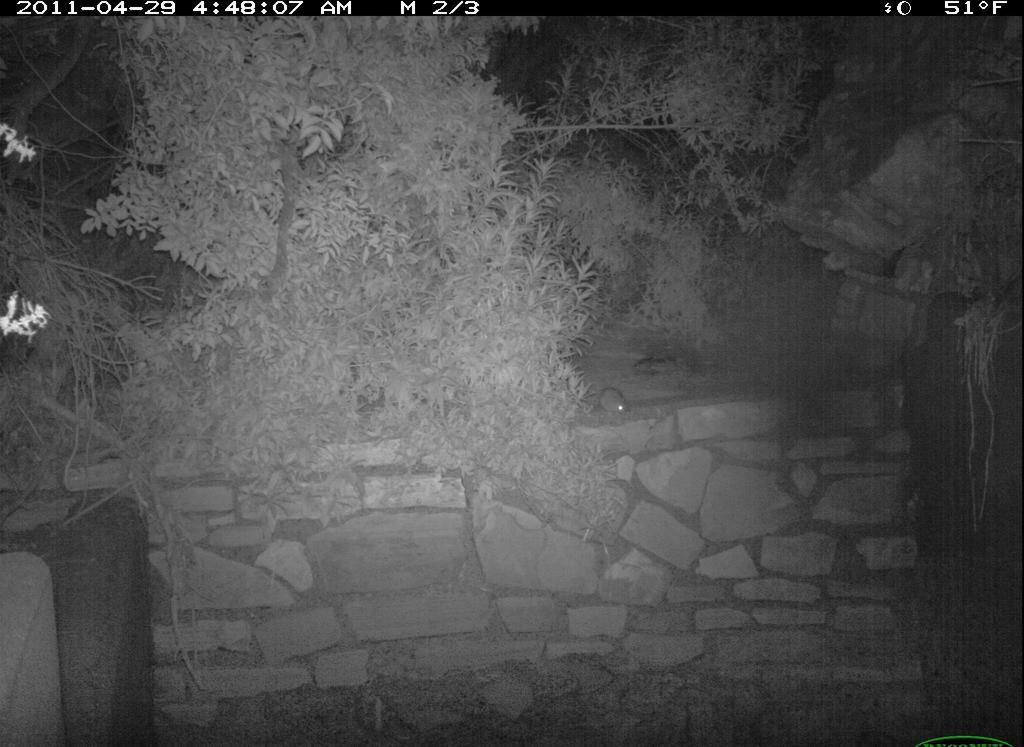rodent: (592, 385, 641, 422)
